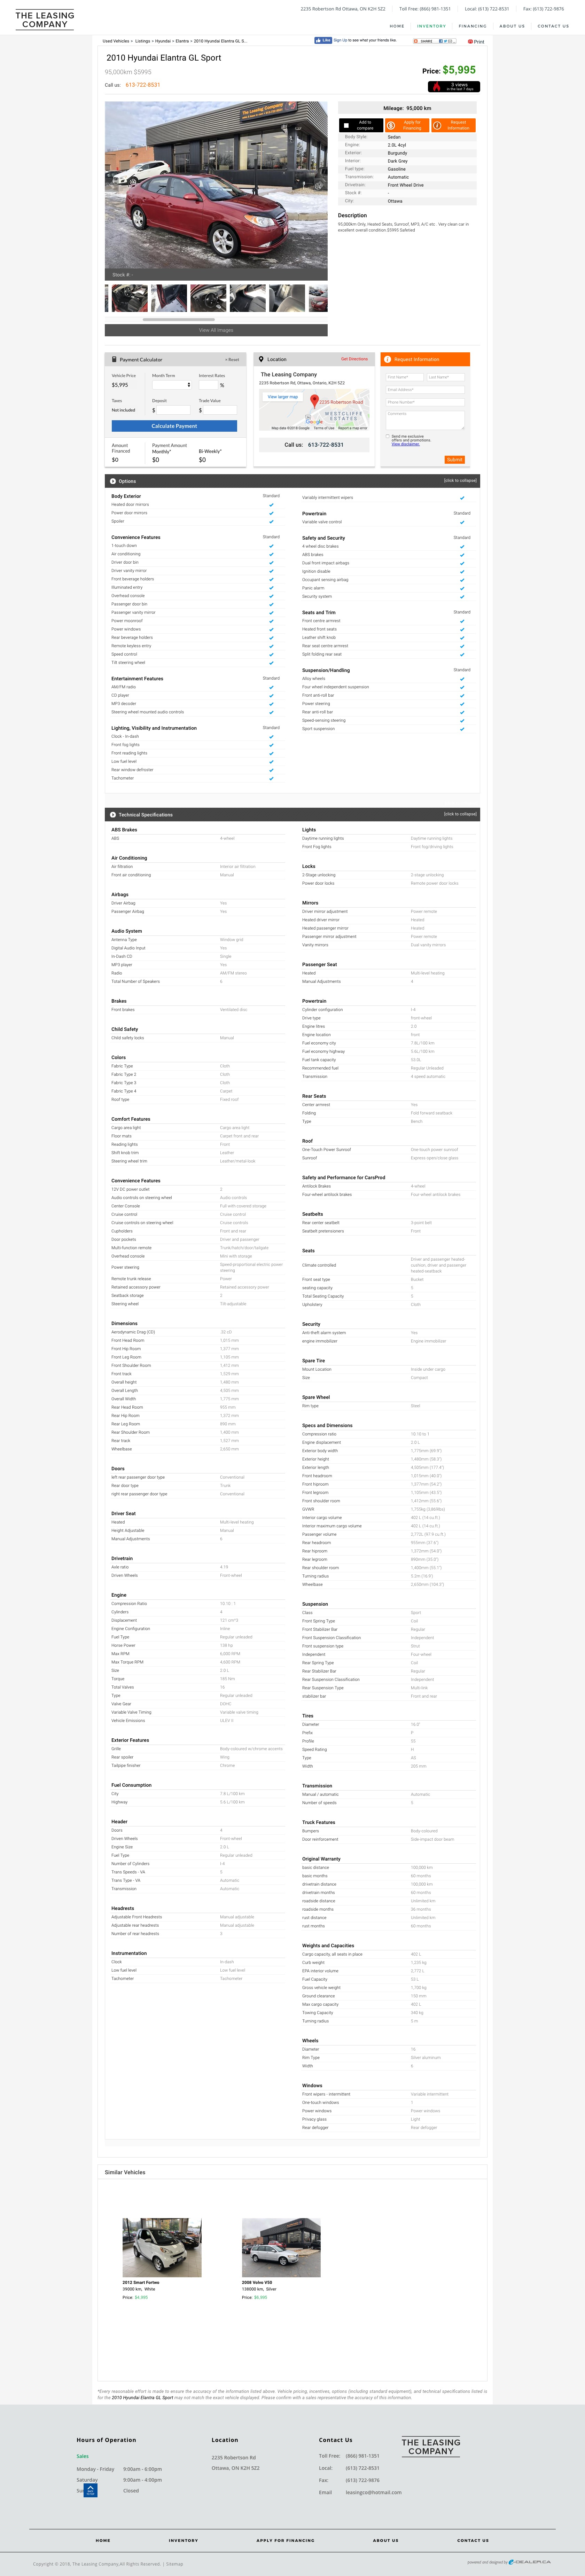car: (316, 179, 329, 192)
